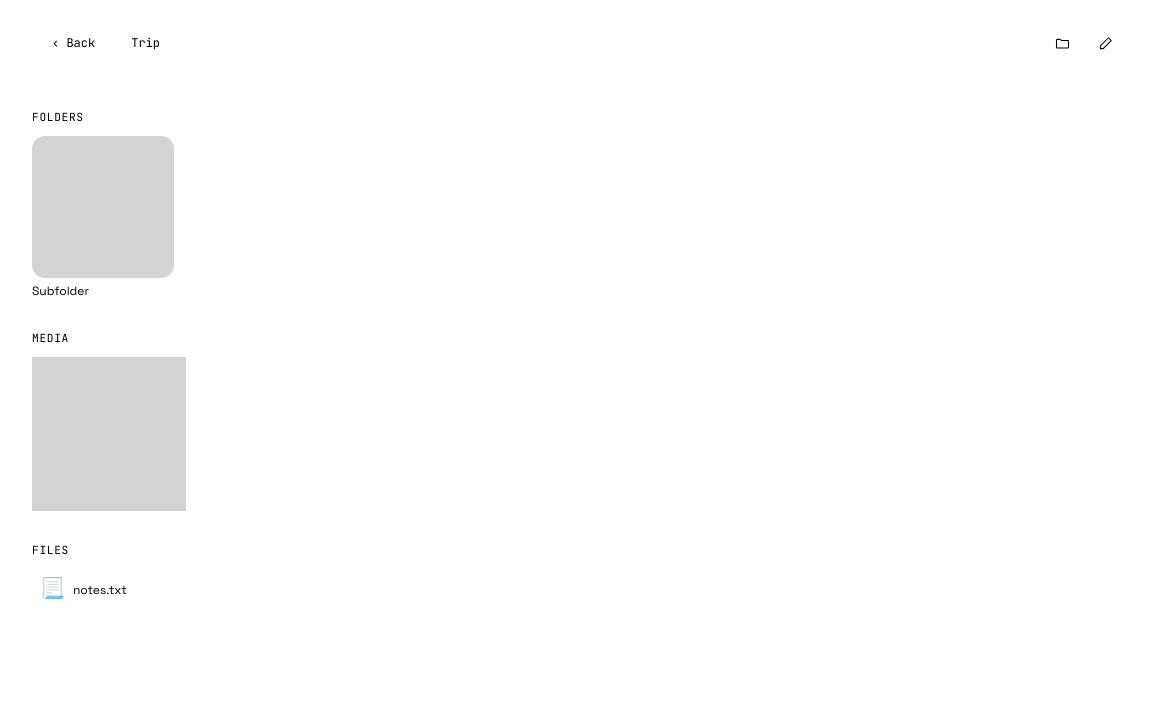
Scenario: FullPageView › drills 2 levels deep and reflects each breadcrumb label
What coordinates should you click on to do the following:
click the text "Subfolder"
I would click on:
 (103, 218)
Its box is [32, 136, 174, 299].
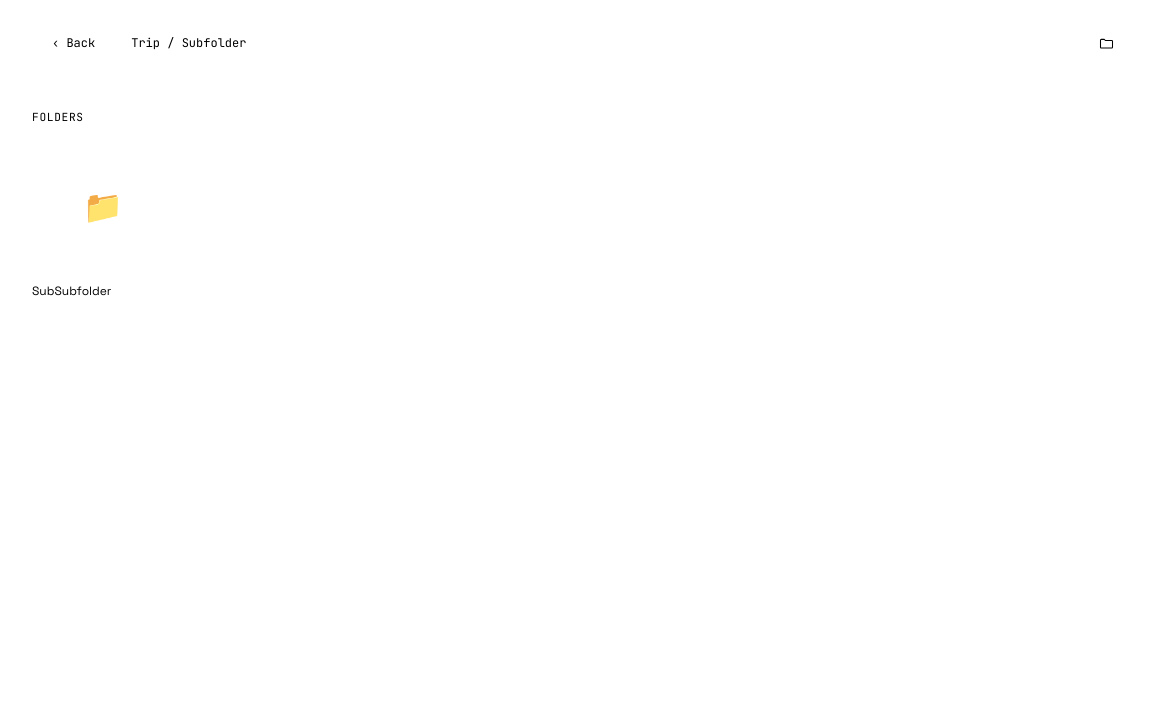
What coordinates should you click on to do the following:
click the text "SubSubfolder"
I would click on:
 (103, 207)
Its box is [32, 187, 123, 299].
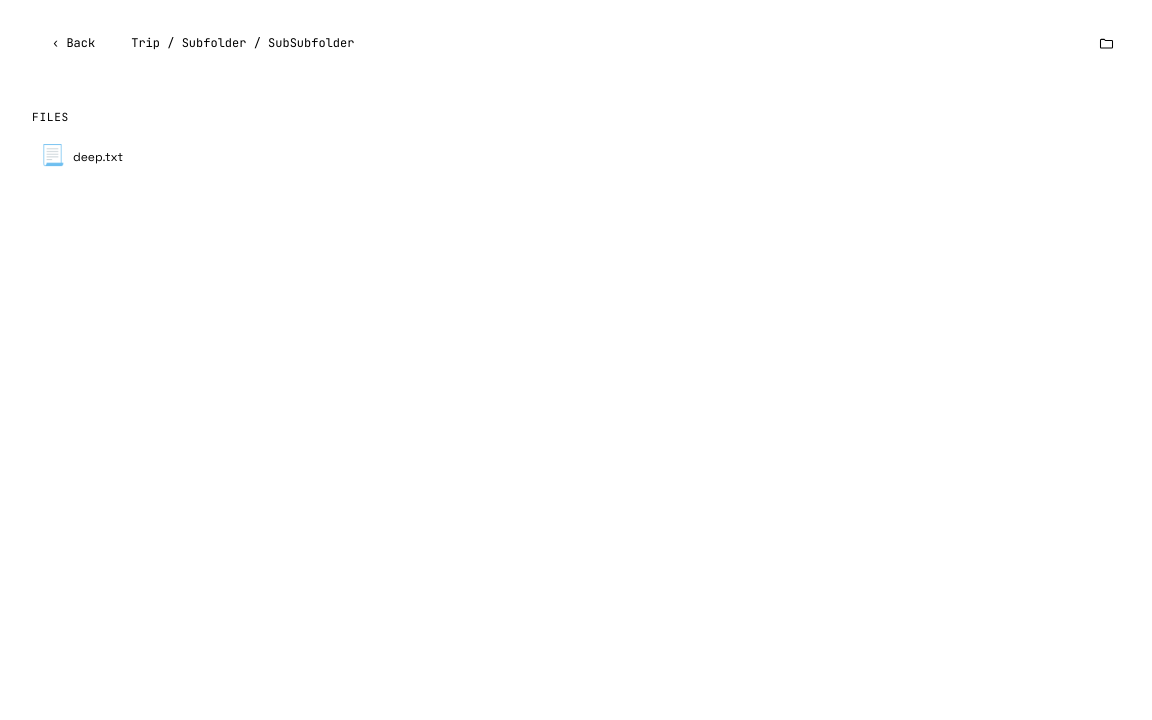
Now the button "Subfolder" is shown, box [182, 35, 246, 51]
Now the button "SubSubfolder" is shown, box [268, 35, 354, 51]
Now the text "deep.txt" is shown, box [73, 149, 123, 165]
